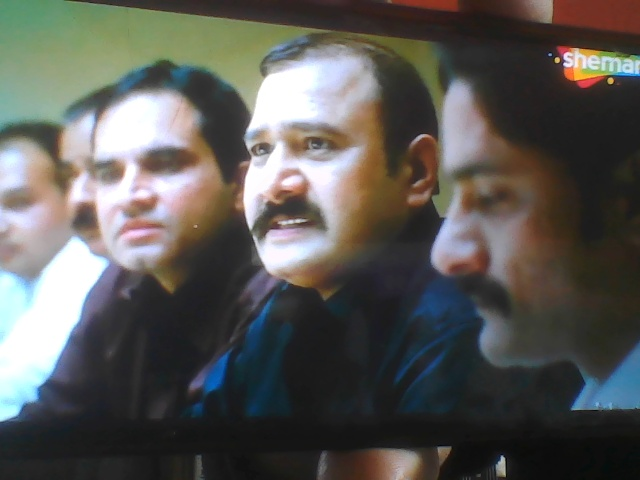fake: (227, 7, 427, 290), (74, 48, 242, 286)
